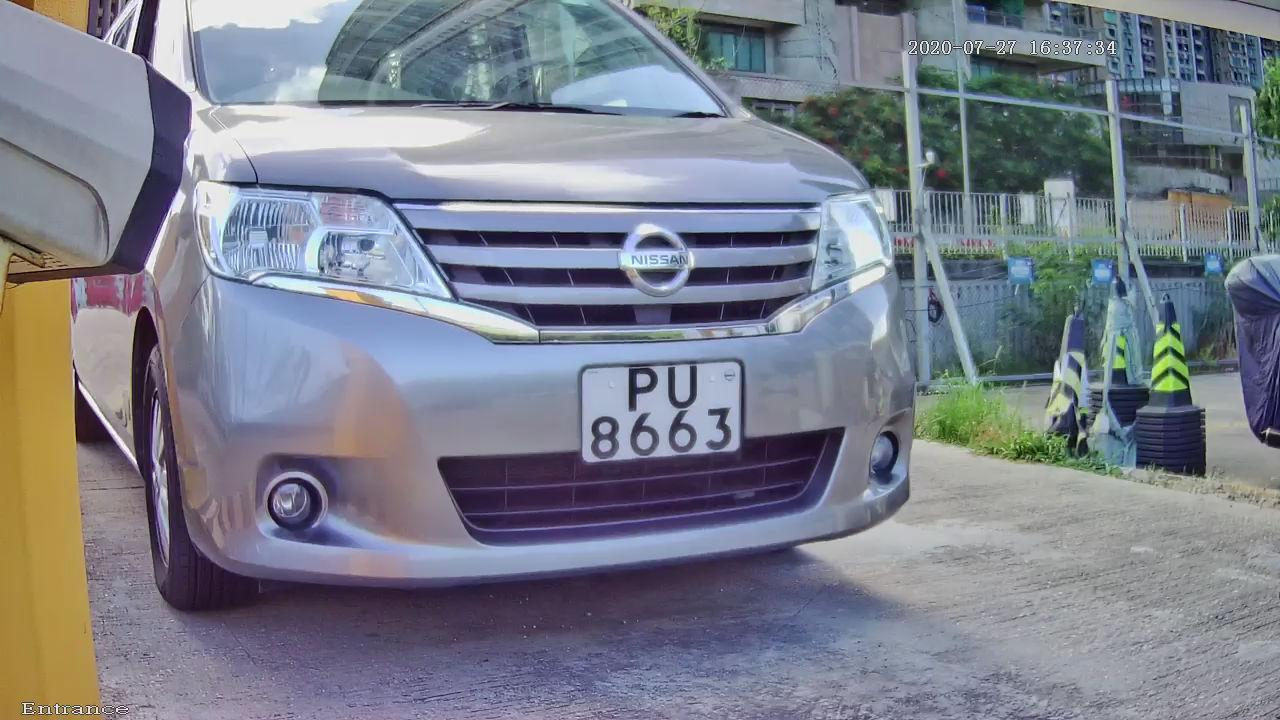privatecar: (46, 29, 1006, 627)
